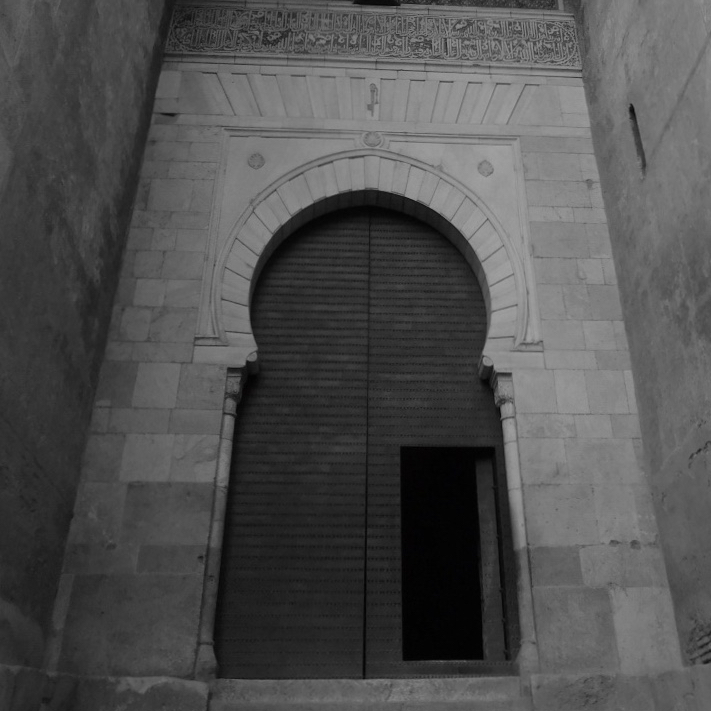arco-herradura: (213, 167, 522, 385)
dintel-adovelado: (177, 61, 557, 127)
